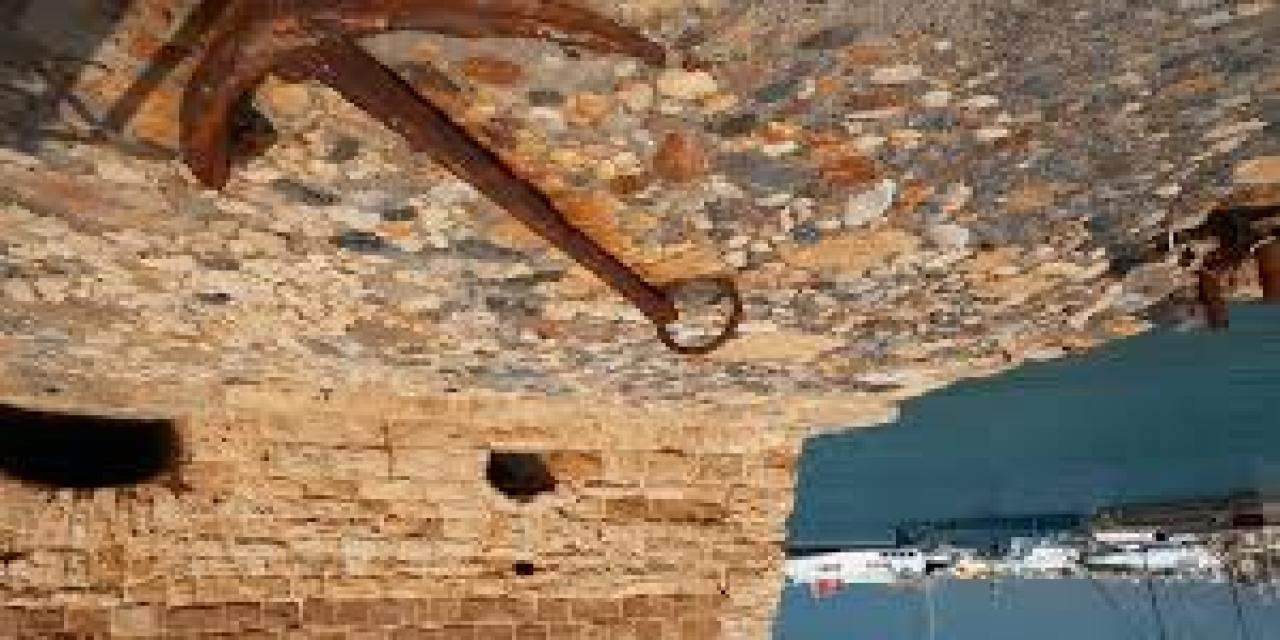Kules: (1, 385, 813, 640)
